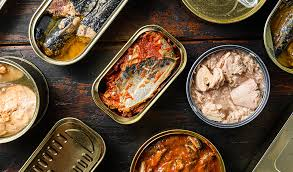can: (1, 1, 293, 172)
